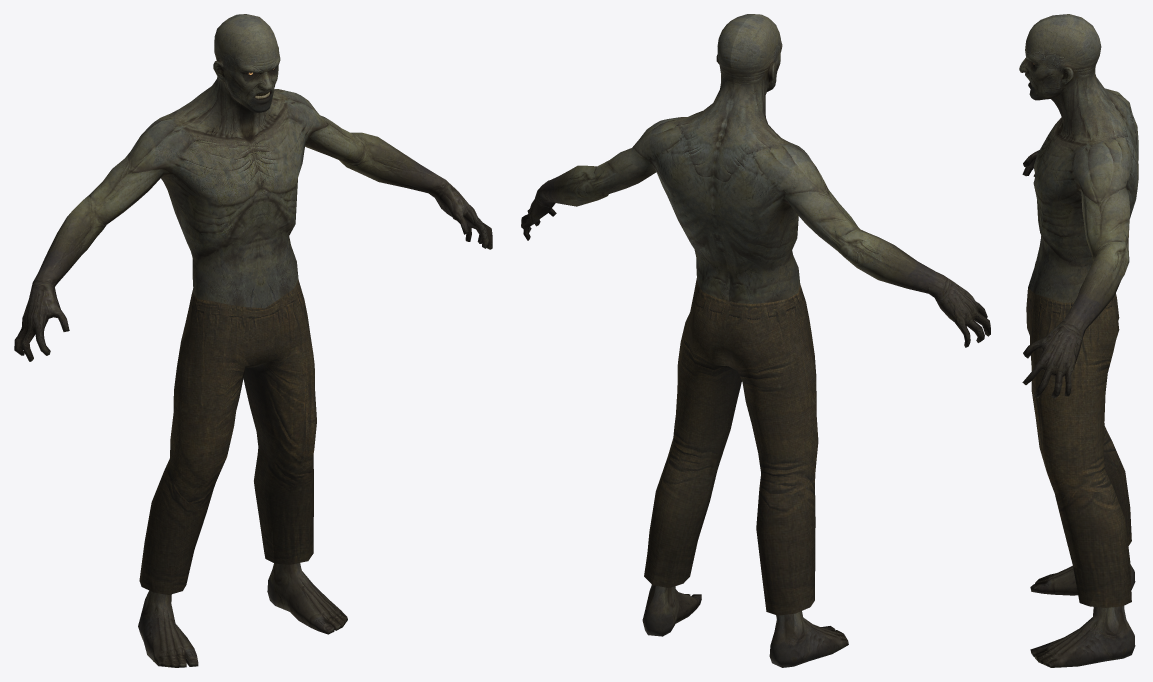
The model's file is zombies.gltf.
3 views of the same model, side by side, from view 1: azimuth 30°, elevation 25°; view 2: azimuth 150°, elevation 25°; view 3: azimuth 270°, elevation 25° (orthographic). The views are drawn at different scales.
Visible parts, largest first — view 1: zombie1; view 2: zombie1; view 3: zombie1.
Part boxes in pixels (x1=…): zombie1: x1=14, y1=14, x2=492, y2=667; zombie1: x1=521, y1=14, x2=990, y2=667; zombie1: x1=1019, y1=14, x2=1138, y2=667.
Size of the model in its own units: 1.24 by 1.56 by 0.2784.
1 material, 1 textured.
